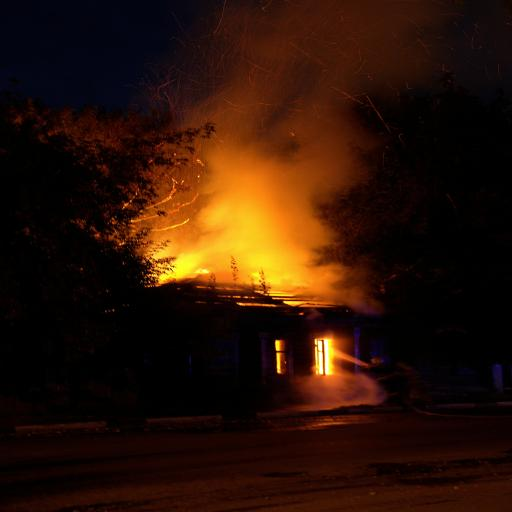buildingfire: (62, 45, 442, 438)
smoke: (209, 134, 335, 222)
